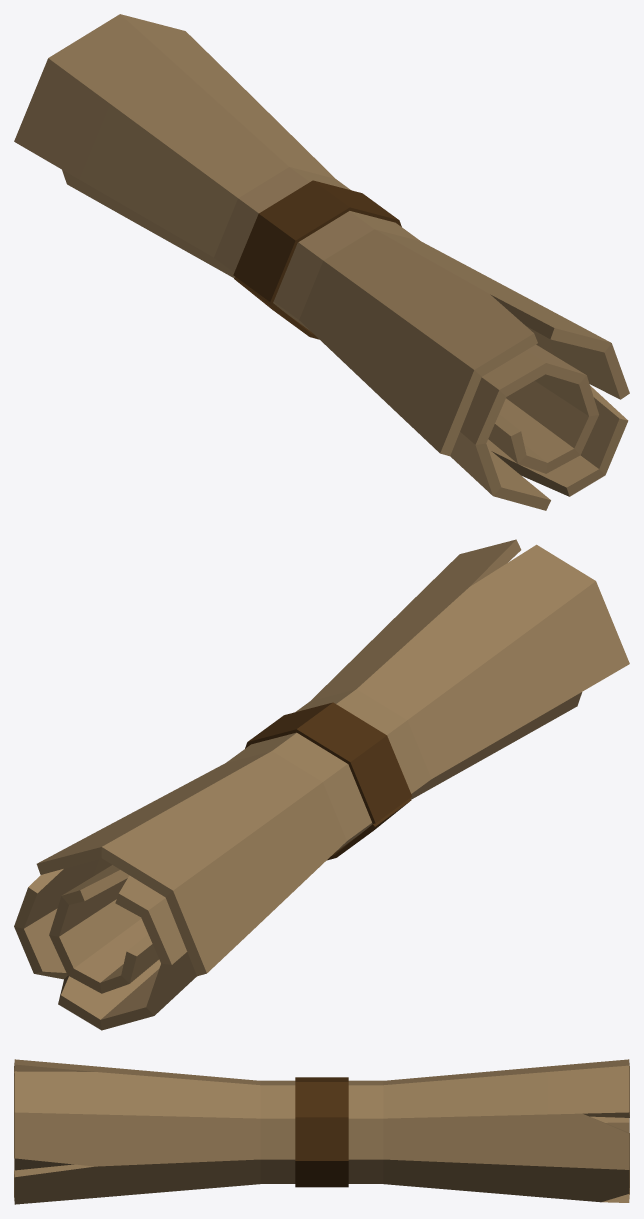
Rendered from Scroll.fbx.
The picture shows the model from 3 angles, top to bottom: view 1: azimuth 30°, elevation 25°; view 2: azimuth 150°, elevation 25°; view 3: azimuth 270°, elevation 25°; orthographic projection. The views are drawn at different scales.
Parts seen in each view (by area): view 1: Spiral; view 2: Spiral; view 3: Spiral.
Part boxes in pixels (bbox=[...]): Spiral: bbox=[14, 14, 629, 510]; Spiral: bbox=[14, 539, 629, 1030]; Spiral: bbox=[14, 1059, 629, 1204].
Size of the model in its own units: 55.49 by 50.44 by 211.
